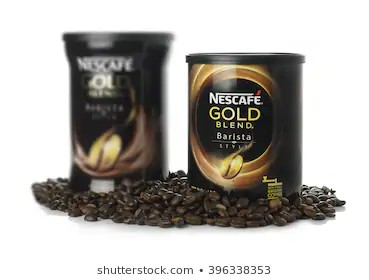nescafe-classic/gold-med: (184, 49, 304, 203), (66, 29, 174, 193)
